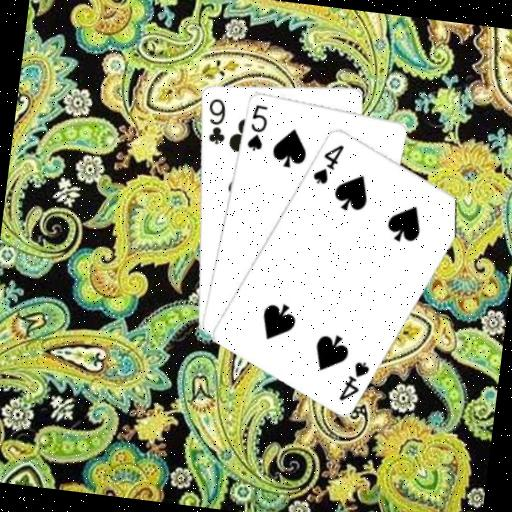4S: (309, 138, 346, 188), (335, 356, 372, 406)
5S: (243, 100, 271, 153)
9C: (201, 94, 232, 147)
